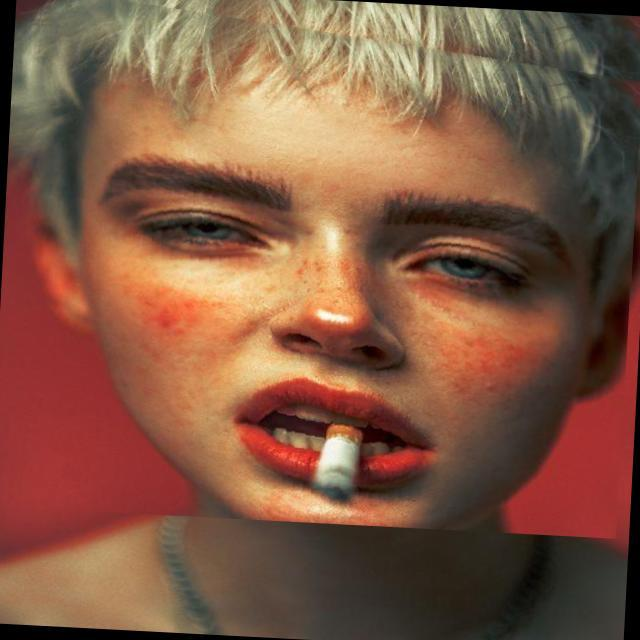cigarette: (306, 372, 387, 472)
